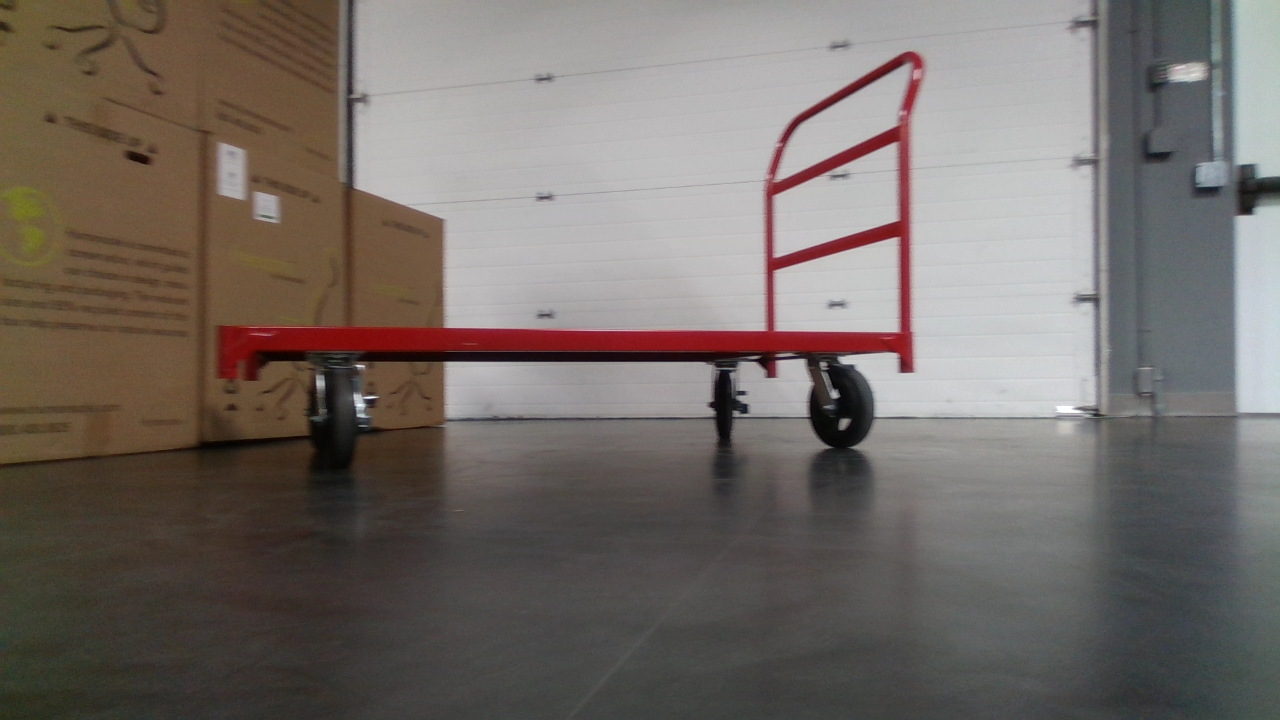Dolly: (213, 48, 936, 472)
Wheel: (306, 355, 378, 467), (806, 355, 875, 449), (704, 363, 754, 441)
